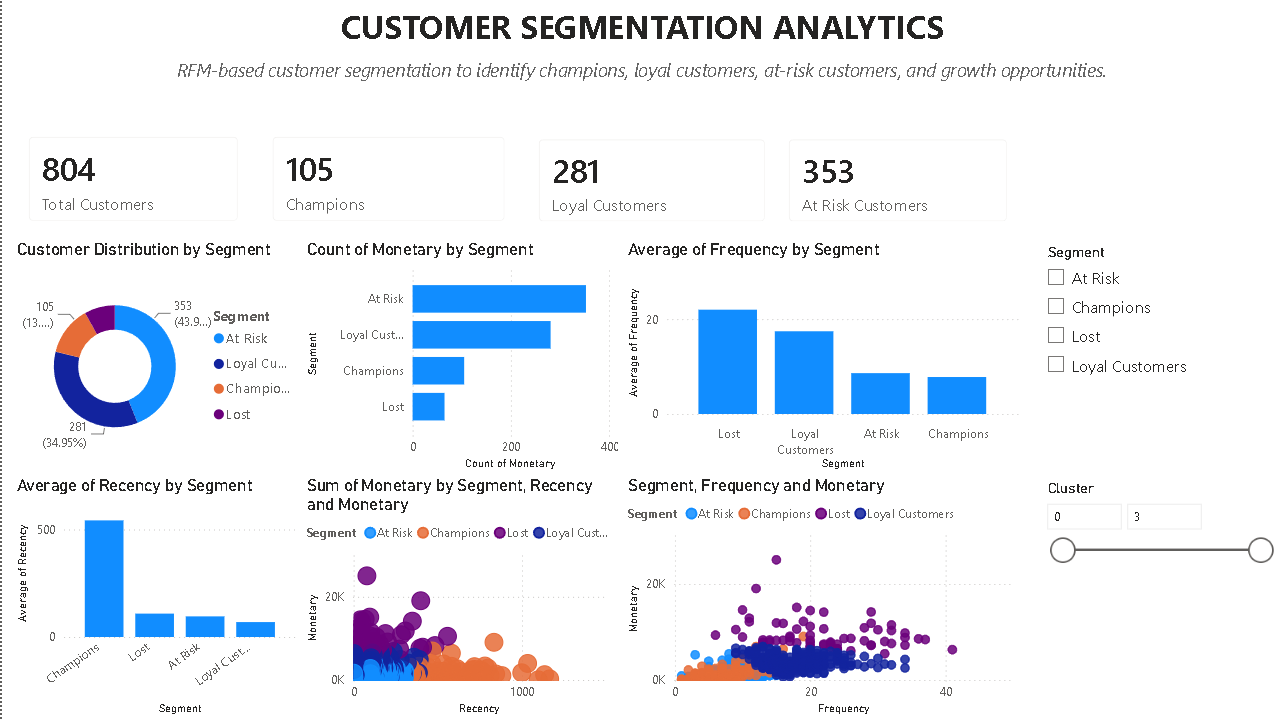

This screenshot's page, from the dashboard's own definition file:
{"tool":"powerbi","page":{"name":"Customer Segmentation Dashboard","canvas":[1280,720],"ordinal":2},"visuals":[{"type":"cardVisual","fields":{"Data":["Count(rfm_segments.Customer ID)"]},"box":[10,120,243.8,118.8],"z":0},{"type":"cardVisual","fields":{"Data":["CountNonNull(rfm_segments.Customer ID)"]},"box":[253.8,120,266.2,118.8],"z":1000},{"type":"cardVisual","fields":{"Data":["CountNonNull(rfm_segments.Customer ID)"]},"box":[520,122.5,260,116.2],"z":2000},{"type":"cardVisual","fields":{"Data":["CountNonNull(rfm_segments.Customer ID)"]},"box":[770,122.5,252.5,116.2],"z":3000},{"type":"donutChart","fields":{"Category":["rfm_segments.Segment"],"Y":["CountNonNull(rfm_segments.Customer ID)"]},"box":[10,238.8,290,236.2],"z":4000},{"type":"clusteredBarChart","fields":{"Category":["rfm_segments.Segment"],"Y":["CountNonNull(rfm_segments.Monetary)"]},"box":[300,238.8,321.2,236.2],"z":5000},{"type":"clusteredColumnChart","fields":{"Category":["rfm_segments.Segment"],"Y":["Avg(rfm_segments.Frequency)"]},"box":[621.2,238.8,401.2,236.2],"z":6000},{"type":"clusteredColumnChart","fields":{"Category":["rfm_segments.Segment"],"Y":["Avg(rfm_segments.Recency)"]},"box":[10,475,290,245],"z":7000},{"type":"scatterChart","fields":{"X":["rfm_segments.Recency"],"Y":["rfm_segments.Monetary"],"Series":["rfm_segments.Segment"],"Size":["CountNonNull(rfm_segments.Monetary)"]},"box":[300,475,321.2,245],"z":8000},{"type":"scatterChart","fields":{"X":["rfm_segments.Frequency"],"Y":["rfm_segments.Monetary"],"Series":["rfm_segments.Segment"]},"box":[621.2,475,401.2,245],"z":9000},{"type":"slicer","fields":{"Values":["rfm_segments.Segment"]},"box":[1032.5,238.8,247.5,208.8],"z":10000},{"type":"slicer","fields":{"Values":["rfm_segments.Cluster"]},"box":[1032.5,475,247.5,245],"z":11000},{"type":"textbox","box":[0,0,1280,52.5],"z":12000},{"type":"textbox","box":[0,52.5,1280,67.5],"z":13000}]}

Visuals, with their boxes in screenshot pixels (x1, y1, x2, y2), scaled from the page's 1280x720 canvas onto the 1280x720 screenshot:
cardVisual - Count(rfm_segments.Customer ID): (10, 120, 254, 239)
cardVisual - CountNonNull(rfm_segments.Customer ID): (254, 120, 520, 239)
cardVisual - CountNonNull(rfm_segments.Customer ID): (520, 122, 780, 239)
cardVisual - CountNonNull(rfm_segments.Customer ID): (770, 122, 1022, 239)
donutChart - rfm_segments.Segment x CountNonNull(rfm_segments.Customer ID): (10, 239, 300, 475)
clusteredBarChart - rfm_segments.Segment x CountNonNull(rfm_segments.Monetary): (300, 239, 621, 475)
clusteredColumnChart - rfm_segments.Segment x Avg(rfm_segments.Frequency): (621, 239, 1022, 475)
clusteredColumnChart - rfm_segments.Segment x Avg(rfm_segments.Recency): (10, 475, 300, 719)
scatterChart - rfm_segments.Recency x rfm_segments.Monetary: (300, 475, 621, 719)
scatterChart - rfm_segments.Frequency x rfm_segments.Monetary: (621, 475, 1022, 719)
slicer - rfm_segments.Segment: (1032, 239, 1279, 448)
slicer - rfm_segments.Cluster: (1032, 475, 1279, 719)
textbox: (0, 0, 1279, 52)
textbox: (0, 52, 1279, 120)
